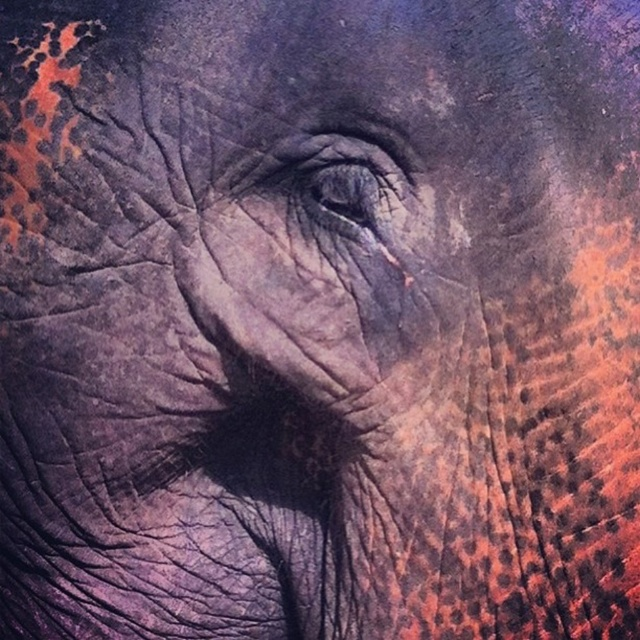Elephant: (0, 8, 640, 640)
